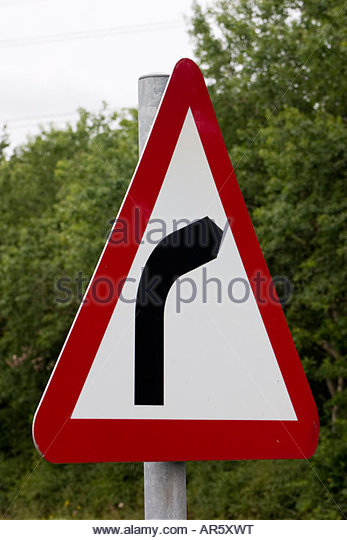Bend_to_right: (32, 57, 322, 463)
